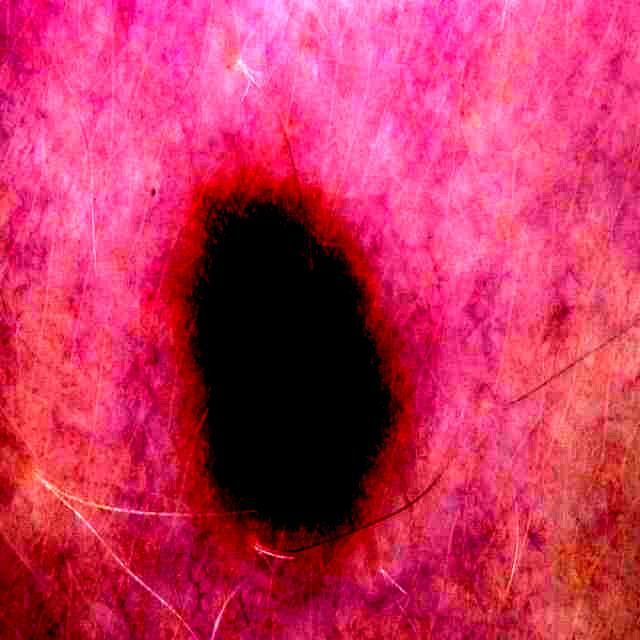NV: (186, 188, 394, 530)
